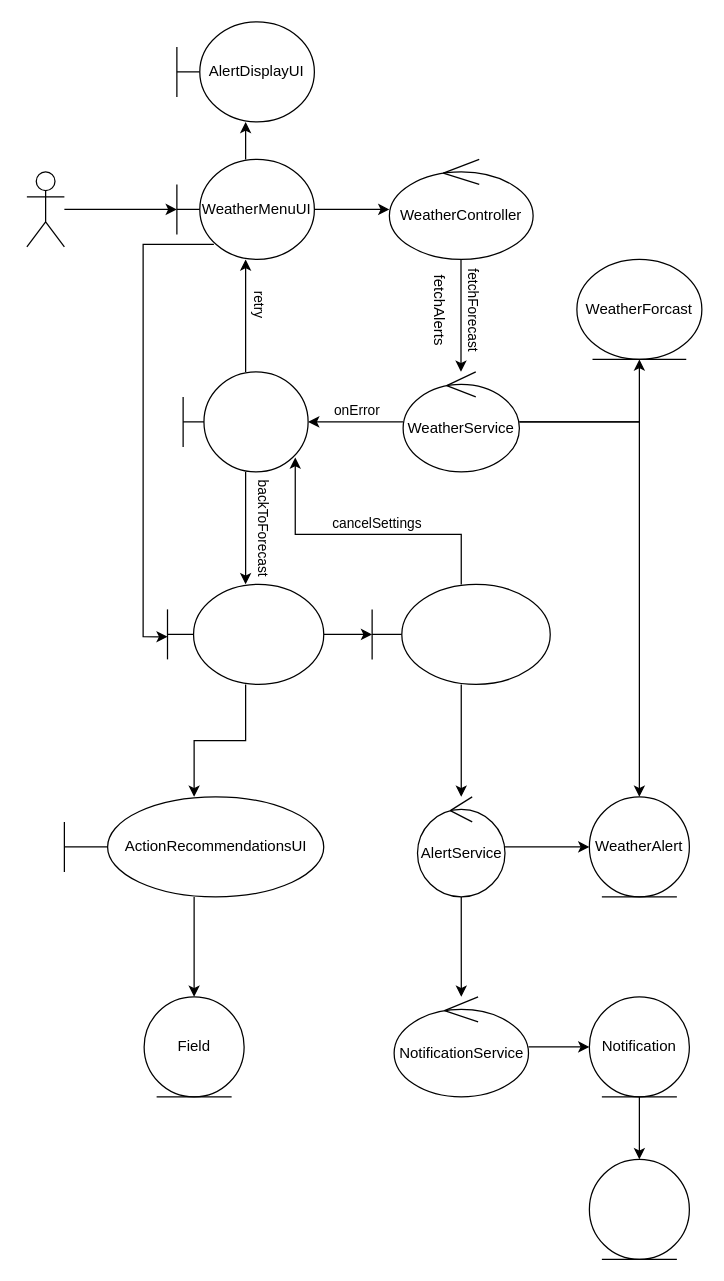
Image size: 724x1281. Some labels were removed from this diagram. The centre of each missing label's shape, as x and y in pixels:
AlertSettingsFormUI: the point at 460,633
ErrorPopupUI: the point at 245,421
Farmer: the point at 45,209
ForecastDispalyUI: the point at 245,633
User: the point at 638,1208
